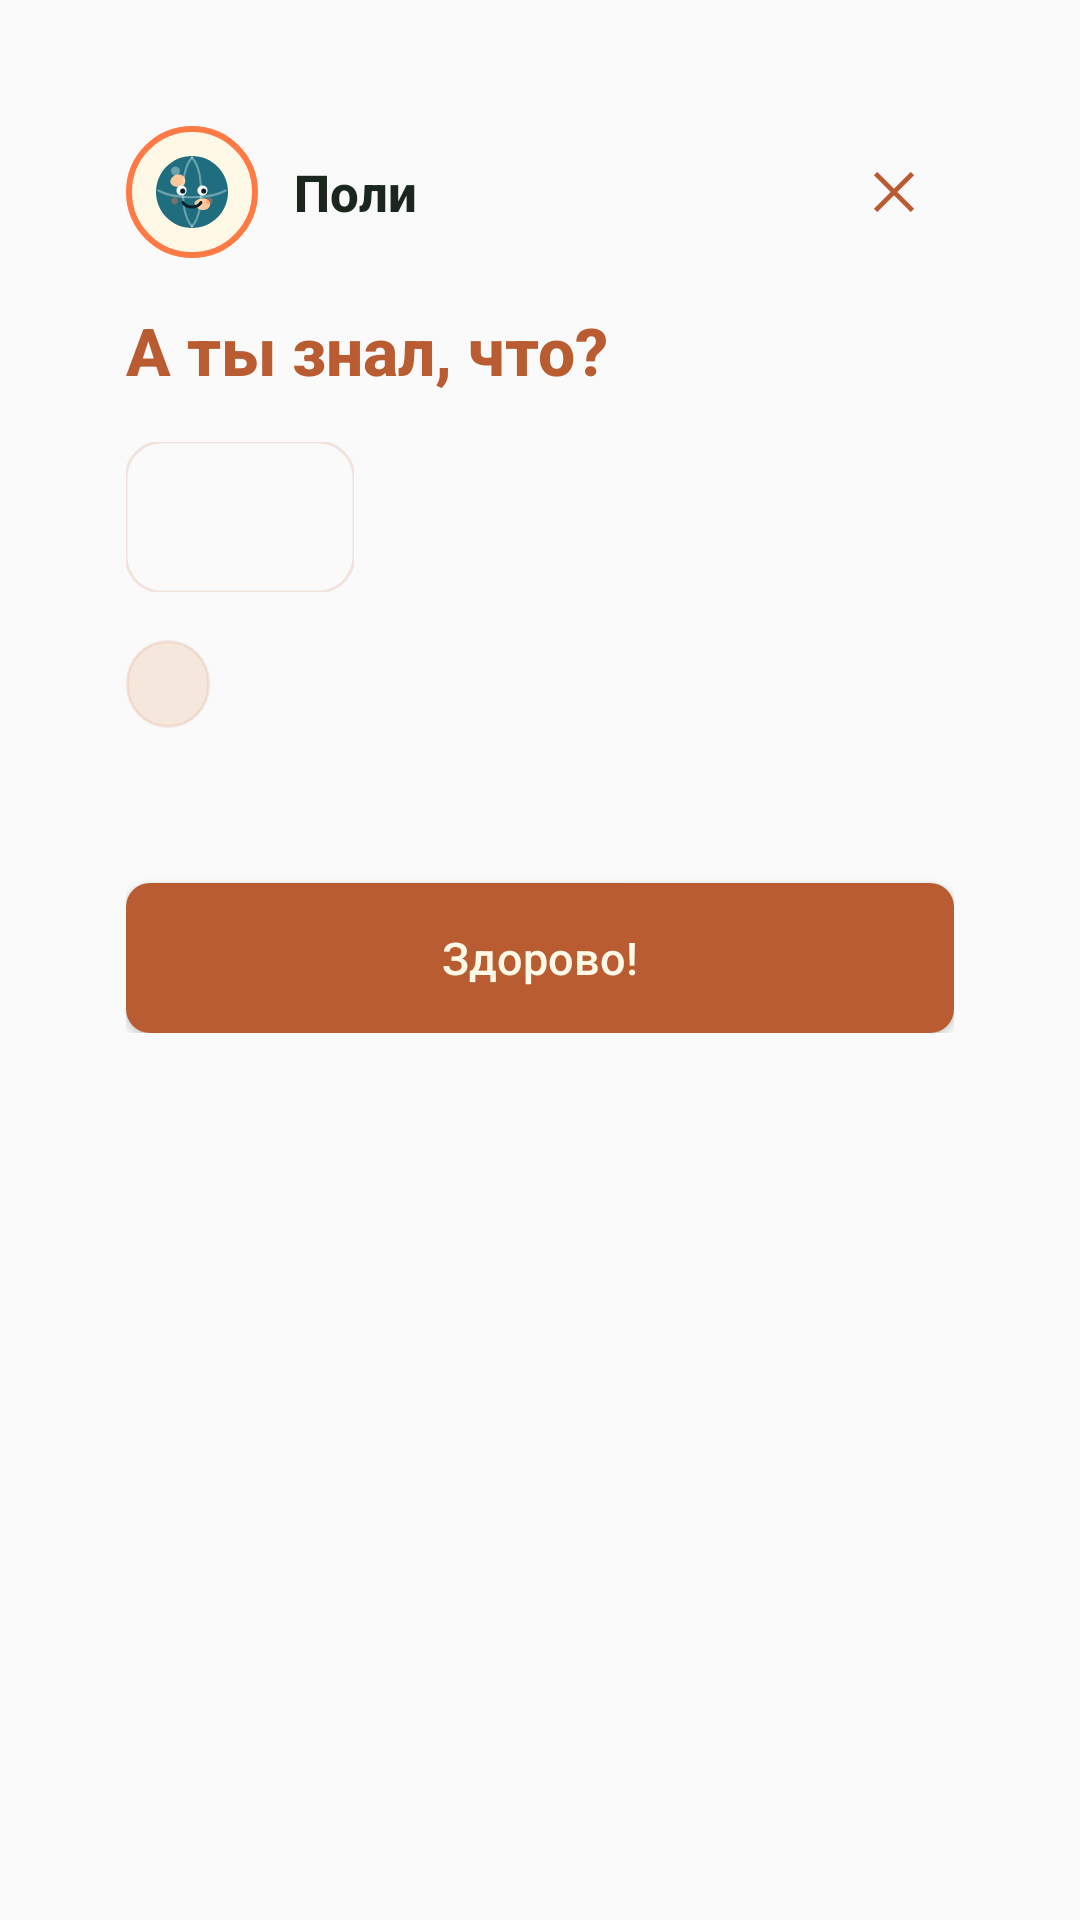

Icon bounding boxes for this 1080×1920 phone screenshot, format (x1, y1, x2, y2):
Закрыть: (874, 172, 914, 212)
